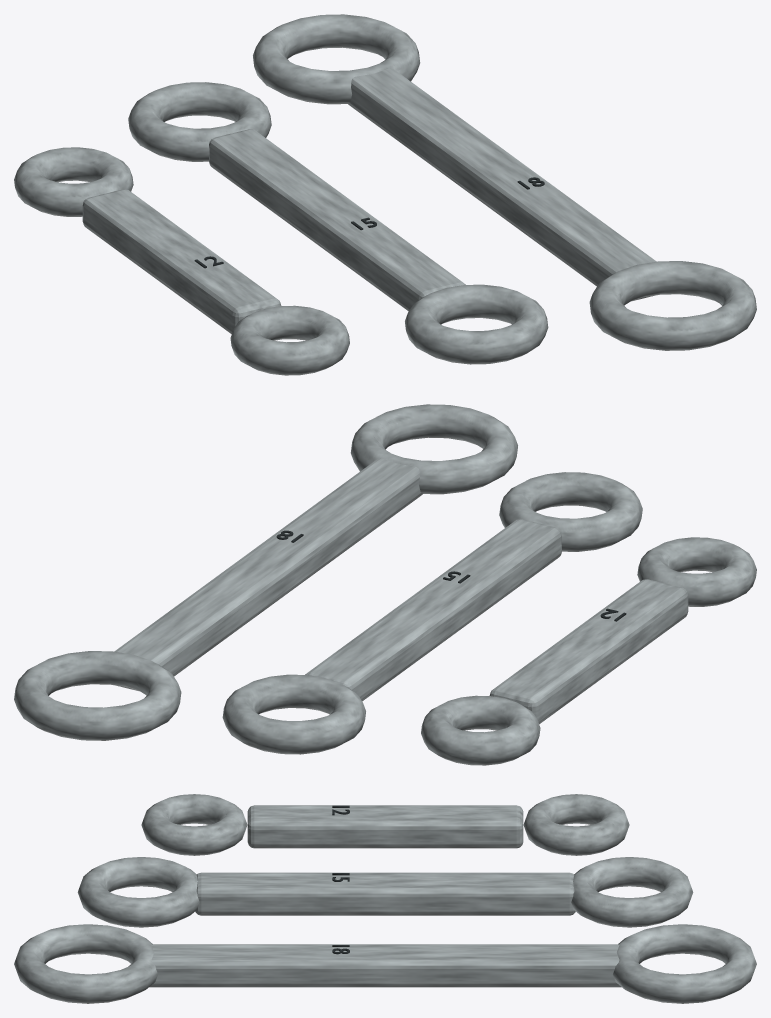
Rendered from GR_RingSpannerSet_04.glb.
3 views of the same model, one above another, from view 1: azimuth 30°, elevation 25°; view 2: azimuth 150°, elevation 25°; view 3: azimuth 270°, elevation 25° (orthographic). The views are drawn at different scales.
Parts seen in each view (by area): view 1: Static; view 2: Static; view 3: Static.
Part boxes in pixels (x1,y1,x2,y2): Static: [14, 14, 756, 375]; Static: [14, 404, 756, 765]; Static: [14, 794, 756, 1003].
Bounding box in the file's own units: 0.215 × 0.0163 × 0.35.
1 material, 1 textured.
